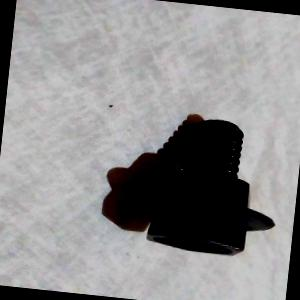parafuso: (118, 108, 286, 260)
